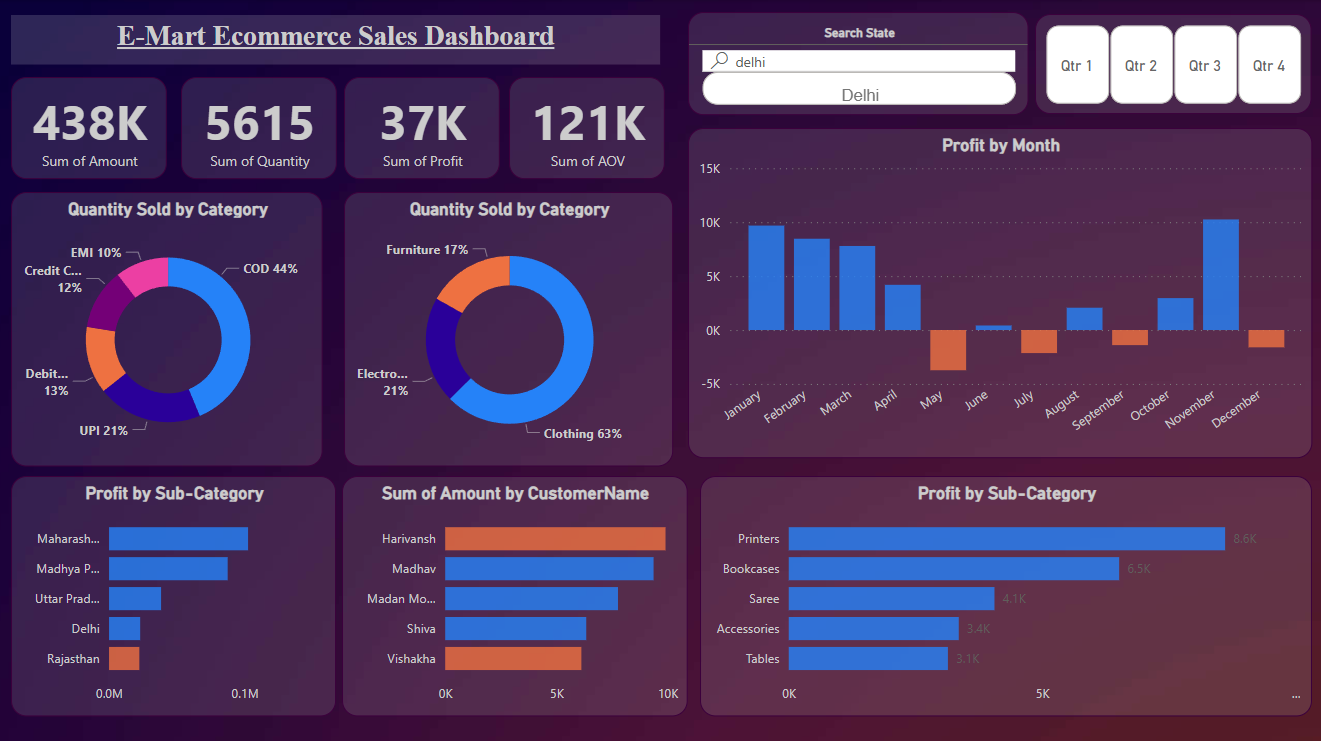

What the dashboard file says about the page in this screenshot:
{"tool":"powerbi","page":{"name":"Page 1","canvas":[1280,720],"ordinal":0},"visuals":[{"type":"textbox","box":[10.7,14.6,629.3,47.7],"z":0},{"type":"columnChart","title":"Profit by Month","fields":{"Category":["Orders.Order Date.Variation.Date Hierarchy.Month"],"Y":["Details.Profit"]},"box":[666.3,124.5,605,320],"z":1000},{"type":"barChart","title":"Profit by Sub-Category","fields":{"Category":["Details.Sub-Category"],"Y":["Details.Profit"]},"box":[677.9,461,593.3,233.4],"z":2000},{"type":"donutChart","title":"Quantity Sold by Category","fields":{"Category":["Details.Category"],"Y":["Details.Quantity"]},"box":[333.6,185.8,319,265.5],"z":3000},{"type":"donutChart","title":"Quantity Sold by Category","fields":{"Y":["Details.Quantity"],"Category":["Details.PaymentMode"]},"box":[10.7,185.8,302.5,265.5],"z":4000},{"type":"card","fields":{"Values":["Details.Amount"]},"box":[10.7,74.9,150.8,99.2],"z":5000},{"type":"card","fields":{"Values":["Details.Quantity"]},"box":[175.1,74.9,150.8,99.2],"z":6000},{"type":"card","fields":{"Values":["Details.Profit"]},"box":[333.6,74.9,150.8,99.2],"z":7000},{"type":"card","fields":{"Values":["Details.AOV"]},"box":[493.1,74.9,150.8,99.2],"z":8000},{"type":"barChart","title":"Profit by Sub-Category","fields":{"Category":["Orders.State"],"Y":["Details.Amount"]},"box":[10.7,461,315.1,233.4],"z":9000},{"type":"clusteredBarChart","fields":{"Category":["Orders.CustomerName"],"Y":["Details.Amount"]},"box":[331.7,461,334.6,233.4],"z":10000},{"type":"advancedSlicerVisual","fields":{"Values":["Orders.Order Date.Variation.Date Hierarchy.Quarter"]},"box":[1002.9,13.6,268.4,96.9],"z":11000},{"type":"advancedSlicerVisual","title":"Search State","fields":{"Values":["Orders.State"]},"box":[666.3,11.7,329.7,100.2],"z":12000}]}

Visuals, with their boxes in screenshot pixels (x1, y1, x2, y2), scaled from the page's 1280x720 canvas onto the 1321x741 screenshot:
textbox: pyautogui.locateOnScreen(11, 15, 660, 64)
"Profit by Month" columnChart: pyautogui.locateOnScreen(688, 128, 1312, 457)
"Profit by Sub-Category" barChart: pyautogui.locateOnScreen(700, 474, 1312, 715)
"Quantity Sold by Category" donutChart: pyautogui.locateOnScreen(344, 191, 674, 464)
"Quantity Sold by Category" donutChart: pyautogui.locateOnScreen(11, 191, 323, 464)
card - Details.Amount: pyautogui.locateOnScreen(11, 77, 167, 179)
card - Details.Quantity: pyautogui.locateOnScreen(181, 77, 336, 179)
card - Details.Profit: pyautogui.locateOnScreen(344, 77, 500, 179)
card - Details.AOV: pyautogui.locateOnScreen(509, 77, 665, 179)
"Profit by Sub-Category" barChart: pyautogui.locateOnScreen(11, 474, 336, 715)
clusteredBarChart - Orders.CustomerName x Details.Amount: pyautogui.locateOnScreen(342, 474, 688, 715)
advancedSlicerVisual - Orders.Order Date.Variation.Date Hierarchy.Quarter: pyautogui.locateOnScreen(1035, 14, 1312, 114)
"Search State" advancedSlicerVisual: pyautogui.locateOnScreen(688, 12, 1028, 115)
